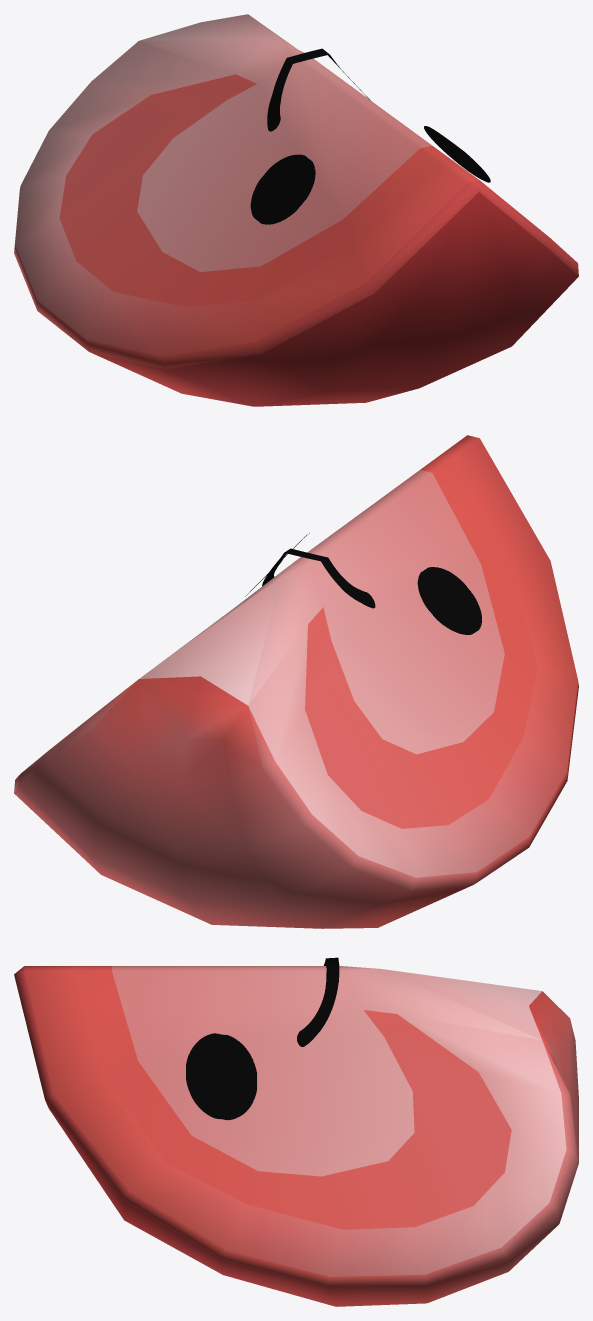
The model's file is tomato_piece_smile.fbx.
3 views of the same model, one above another, from view 1: azimuth 30°, elevation 25°; view 2: azimuth 150°, elevation 25°; view 3: azimuth 270°, elevation 25° (orthographic). The views are drawn at different scales.
Visible parts, largest first — view 1: tomato_piece; view 2: tomato_piece; view 3: tomato_piece.
Part boxes in pixels (x1,y1,x2,y2): tomato_piece: (14, 14, 578, 406); tomato_piece: (14, 435, 578, 928); tomato_piece: (14, 957, 578, 1306).
Size of the model in its own units: 22.08 by 26.4 by 16.
